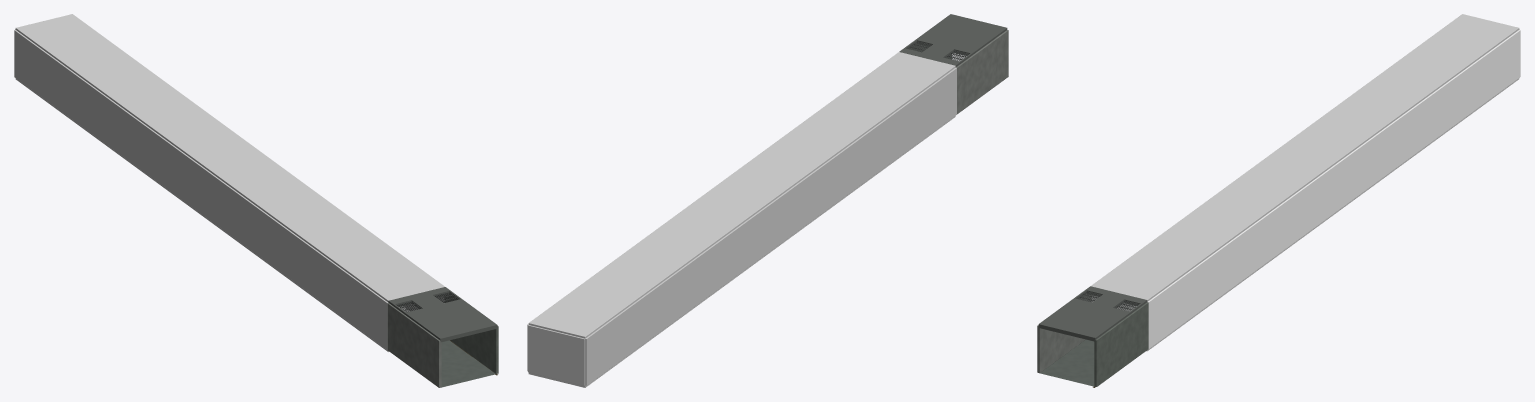
Rendered from afterlight-courtyard.glb.
3 views of the same model, side by side, from view 1: azimuth 30°, elevation 25°; view 2: azimuth 150°, elevation 25°; view 3: azimuth 330°, elevation 25° (orthographic).
Visible parts, largest first — view 1: FarCorridor_Roof, FarCorridor_LeftWall, RoomSurface, DrainRoof_Near, FarCorridor_Floor; view 2: FarCorridor_Roof, FarCorridor_LeftWall, DrainRoof_Near, FarCorridor_End, RoomSurface, FarCorridor_Floor; view 3: FarCorridor_Roof, FarCorridor_RightWall, RoomSurface, DrainRoof_Near, FarCorridor_Floor.
Part boxes in pixels (box(x1,y1,x2,y2)): FarCorridor_Roof: box(15, 14, 444, 301); FarCorridor_LeftWall: box(14, 30, 388, 349); RoomSurface: box(387, 295, 498, 387); DrainRoof_Near: box(388, 287, 497, 342); FarCorridor_Floor: box(15, 78, 409, 351); FarCorridor_Roof: box(528, 52, 955, 338); FarCorridor_LeftWall: box(585, 67, 956, 385); DrainRoof_Near: box(899, 14, 1007, 67); FarCorridor_End: box(528, 325, 585, 385); RoomSurface: box(910, 30, 1008, 114); FarCorridor_Floor: box(528, 116, 955, 387); FarCorridor_Roof: box(1091, 14, 1519, 301); FarCorridor_RightWall: box(1148, 29, 1520, 348); RoomSurface: box(1037, 294, 1148, 387); DrainRoof_Near: box(1038, 286, 1147, 341); FarCorridor_Floor: box(1126, 78, 1519, 351).
Bounding box in the file's own units: 3.98 × 3.28 × 49.18.
Materials: 5 (1 with a texture image).
